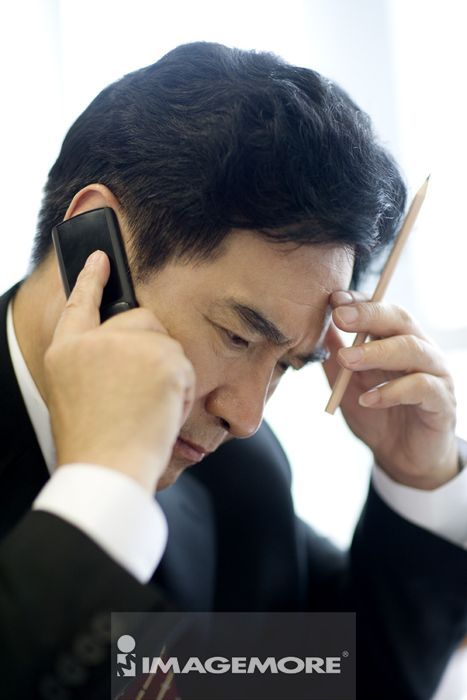phone: (52, 208, 132, 322)
talk: (43, 180, 333, 544)
